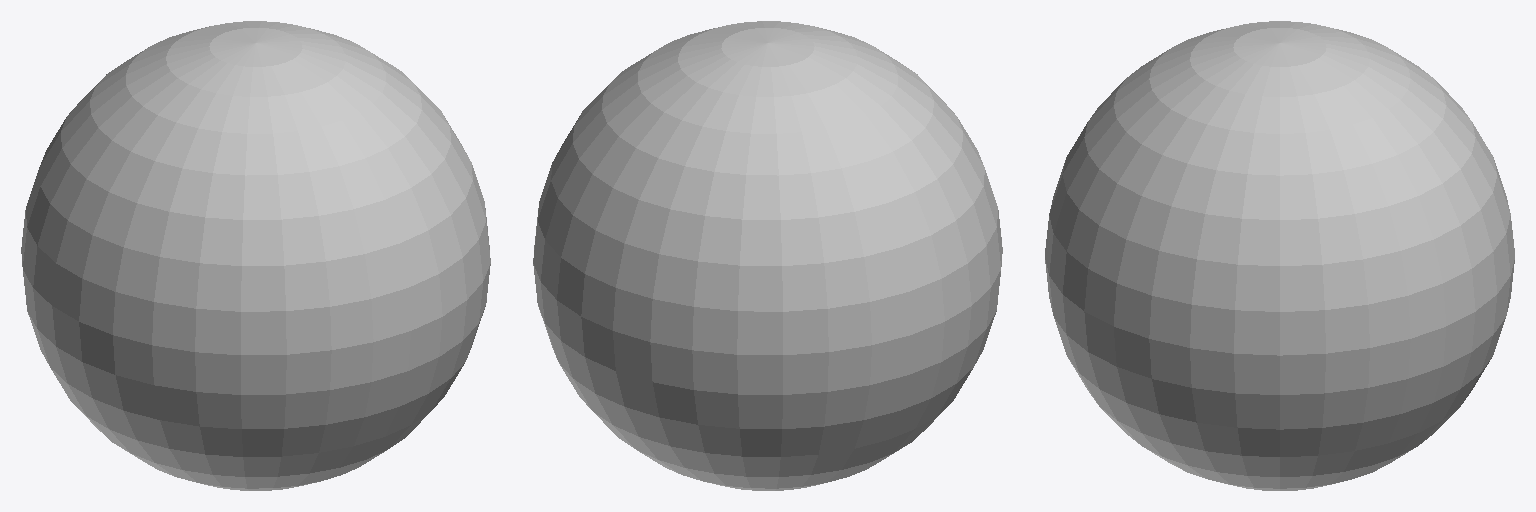
Rendered from SphereInverted.obj.
The picture shows the model from 3 angles: view 1: azimuth 30°, elevation 25°; view 2: azimuth 150°, elevation 25°; view 3: azimuth 270°, elevation 25°; orthographic projection.
Parts seen in each view (by area): view 1: Sphere.003; view 2: Sphere.003; view 3: Sphere.003.
Part boxes in pixels (left/top/right/bottom): Sphere.003: left=21, top=21, right=490, bottom=490; Sphere.003: left=533, top=21, right=1002, bottom=490; Sphere.003: left=1045, top=21, right=1514, bottom=490.
Size of the model in its own units: 200 by 200 by 200.